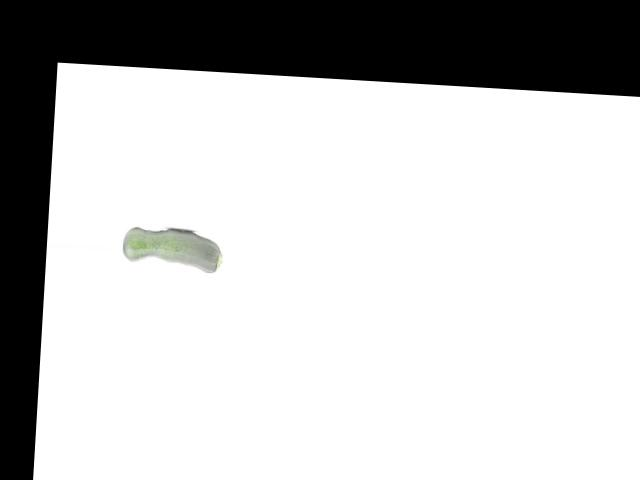cucumber: (122, 225, 224, 273)
